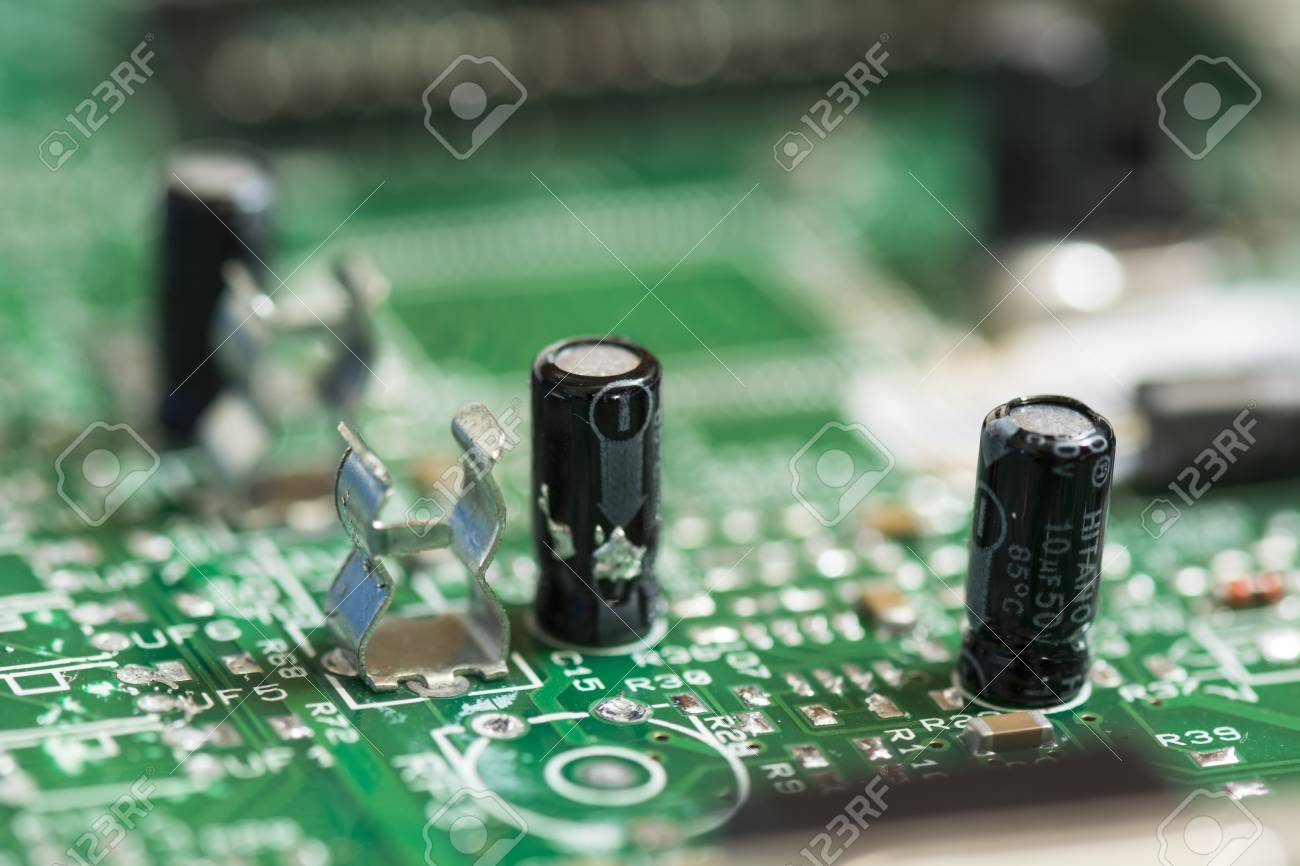capacitor: (936, 356, 1141, 773), (515, 316, 692, 693)
